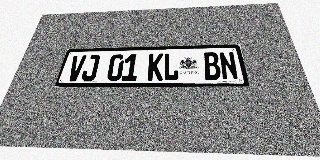0: (106, 54, 125, 81)
1: (121, 54, 139, 81)
B: (203, 52, 222, 80)
J: (80, 55, 100, 81)
K: (147, 53, 163, 81)
L: (163, 53, 179, 80)
N: (218, 52, 239, 80)
V: (66, 55, 87, 81)
